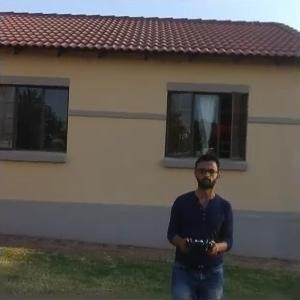follow: (161, 149, 236, 298)
